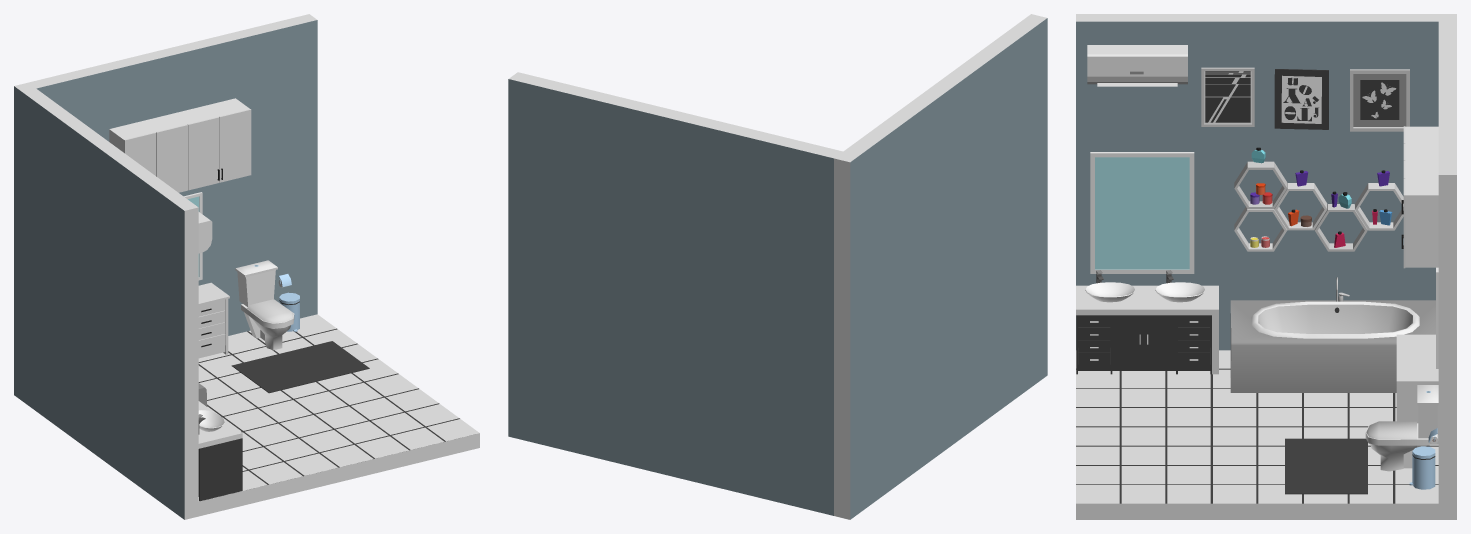
Rendered from room_6.glb.
The picture shows the model from 3 angles, left to right: view 1: azimuth 30°, elevation 25°; view 2: azimuth 150°, elevation 25°; view 3: azimuth 270°, elevation 25°; orthographic projection. The views are drawn at different scales.
Parts seen in each view (by area): view 1: Walls_116.002, Walls_116.001, floor_014.001, kitchen_item_025.001, Walls_011.003, Walls_040.004, bathroom_item_027.001, bathroom_item_022.001, shelf_052.001, bathroom_item_018.001; view 2: Walls_116.001, Walls_116.002; view 3: Walls_116.002, floor_014.001, bathroom_item_023.001, picture_041.001, bathroom_item_027.001, Walls_011.003, Walls_116.001, kitchen_item_025.001, Walls_040.004, electronics_032.001, shelf_059.001, picture_016.001 (+5 smaller).
Part boxes in pixels (box(x1,y1,x2,y2)): Walls_116.002: box(14, 82, 198, 519); Walls_116.001: box(28, 14, 317, 335); floor_014.001: box(198, 314, 479, 501); kitchen_item_025.001: box(109, 98, 251, 192); Walls_011.003: box(198, 328, 479, 516); Walls_040.004: box(231, 341, 369, 393); bathroom_item_027.001: box(198, 401, 242, 501); bathroom_item_022.001: box(235, 260, 294, 350); shelf_052.001: box(198, 282, 229, 358); bathroom_item_018.001: box(278, 274, 299, 331); Walls_116.001: box(508, 72, 842, 515); Walls_116.002: box(834, 14, 1047, 519); Walls_116.002: box(1076, 14, 1456, 350); floor_014.001: box(1076, 350, 1438, 503); bathroom_item_023.001: box(1230, 277, 1435, 392); picture_041.001: box(1090, 152, 1194, 273); bathroom_item_027.001: box(1076, 270, 1218, 374); Walls_011.003: box(1076, 368, 1438, 519); Walls_116.001: box(1438, 21, 1456, 519); kitchen_item_025.001: box(1401, 126, 1438, 268); Walls_040.004: box(1285, 438, 1367, 494); electronics_032.001: box(1087, 45, 1187, 86); shelf_059.001: box(1234, 161, 1403, 251); picture_016.001: box(1350, 69, 1409, 131).
Size of the model in its own units: 4.2 by 4.2 by 4.2.
1 material, 1 textured.
